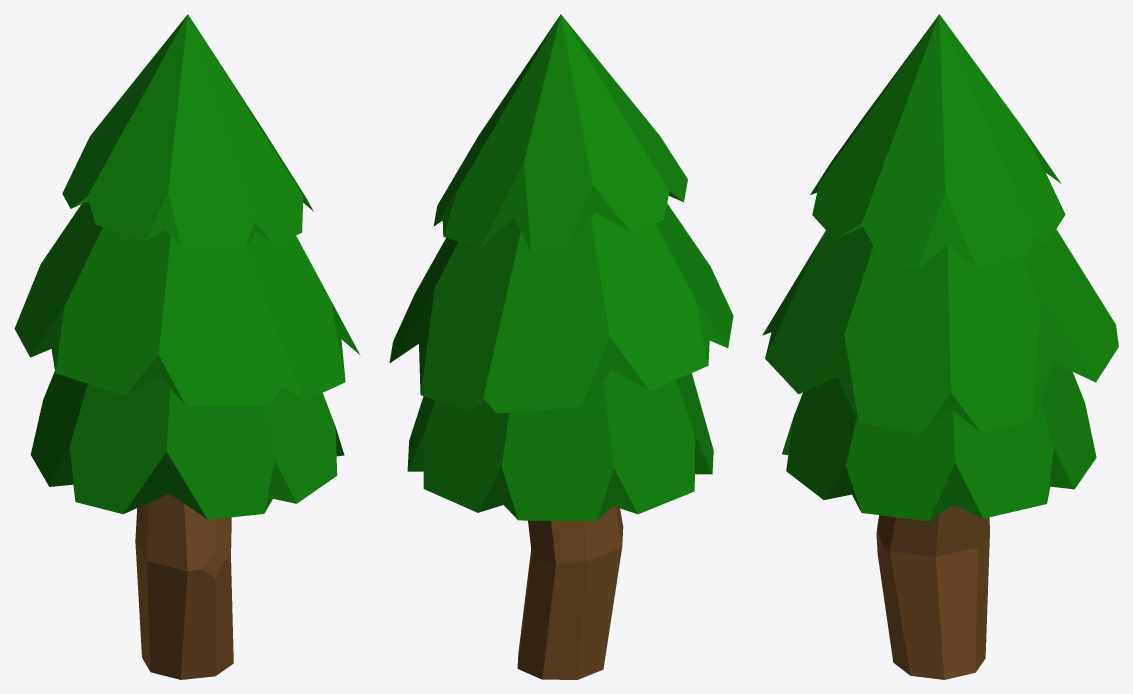
Rendered from tree-2.fbx.
3 views of the same model, side by side, from view 1: azimuth 30°, elevation 25°; view 2: azimuth 150°, elevation 25°; view 3: azimuth 270°, elevation 25° (orthographic).
Visible parts, largest first — view 1: tree1.011; view 2: tree1.011; view 3: tree1.011.
Part boxes in pixels (x1=…): tree1.011: x1=14, y1=14, x2=360, y2=679; tree1.011: x1=389, y1=14, x2=733, y2=679; tree1.011: x1=762, y1=14, x2=1118, y2=679.
Size of the model in its own units: 277 by 564 by 282.
